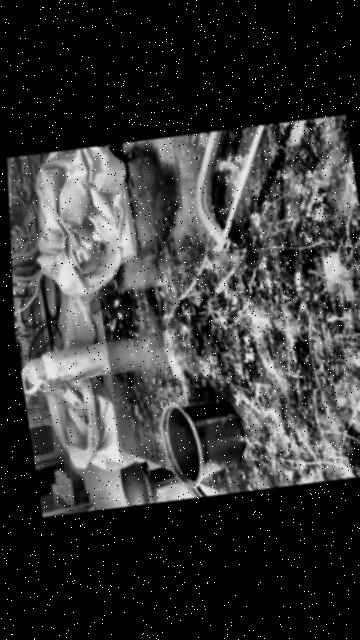pot: (158, 395, 251, 490)
